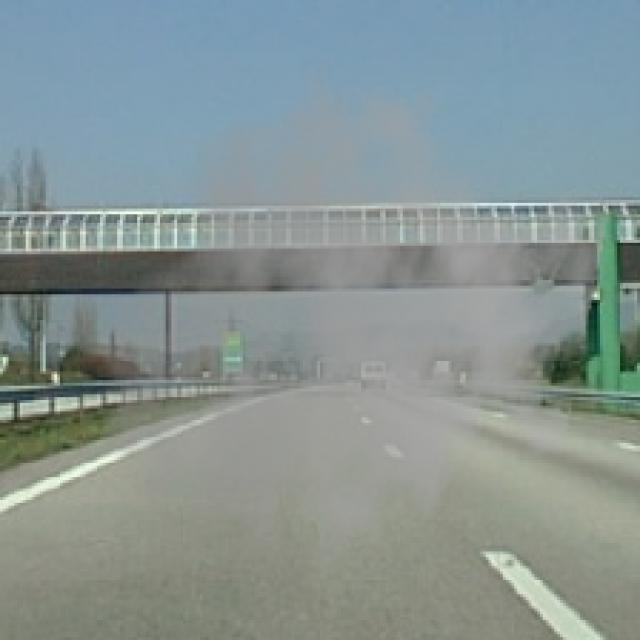smoke: (94, 60, 612, 603)
